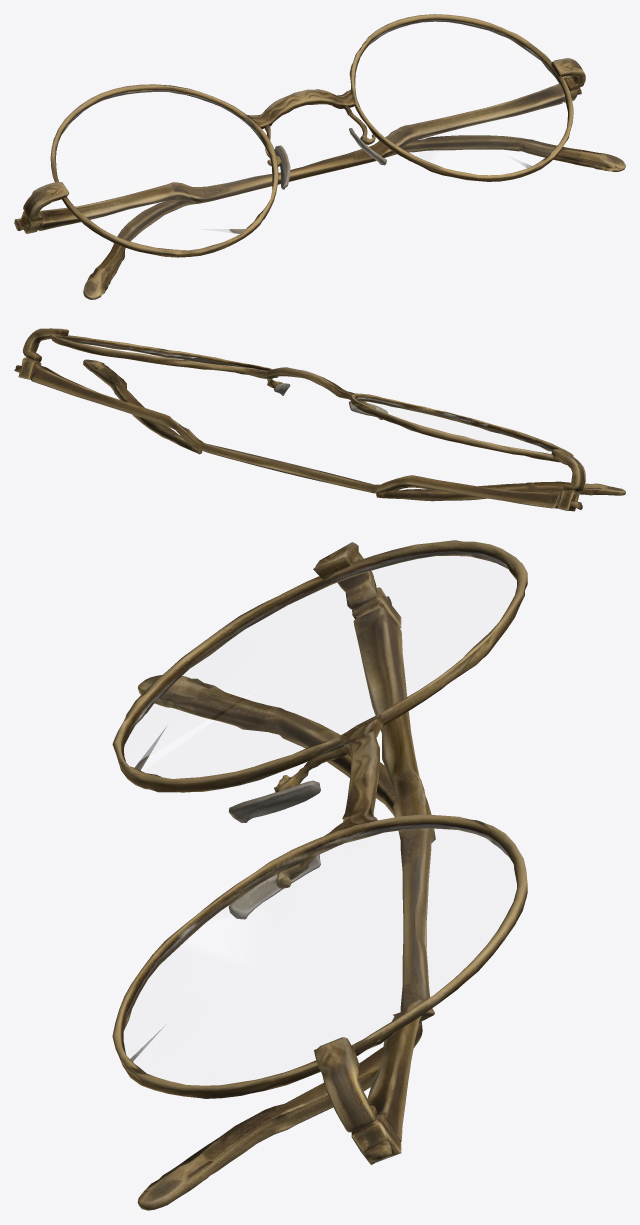
Rendered from spectacles.glb.
3 renders of one model, top to bottom at view 1: azimuth 30°, elevation 25°; view 2: azimuth 150°, elevation 25°; view 3: azimuth 270°, elevation 25°, orthographic. The views are drawn at different scales.
Bounding box in the file's own units: 0.9561 × 0.1831 × 0.3052.
2 materials, 1 textured.
